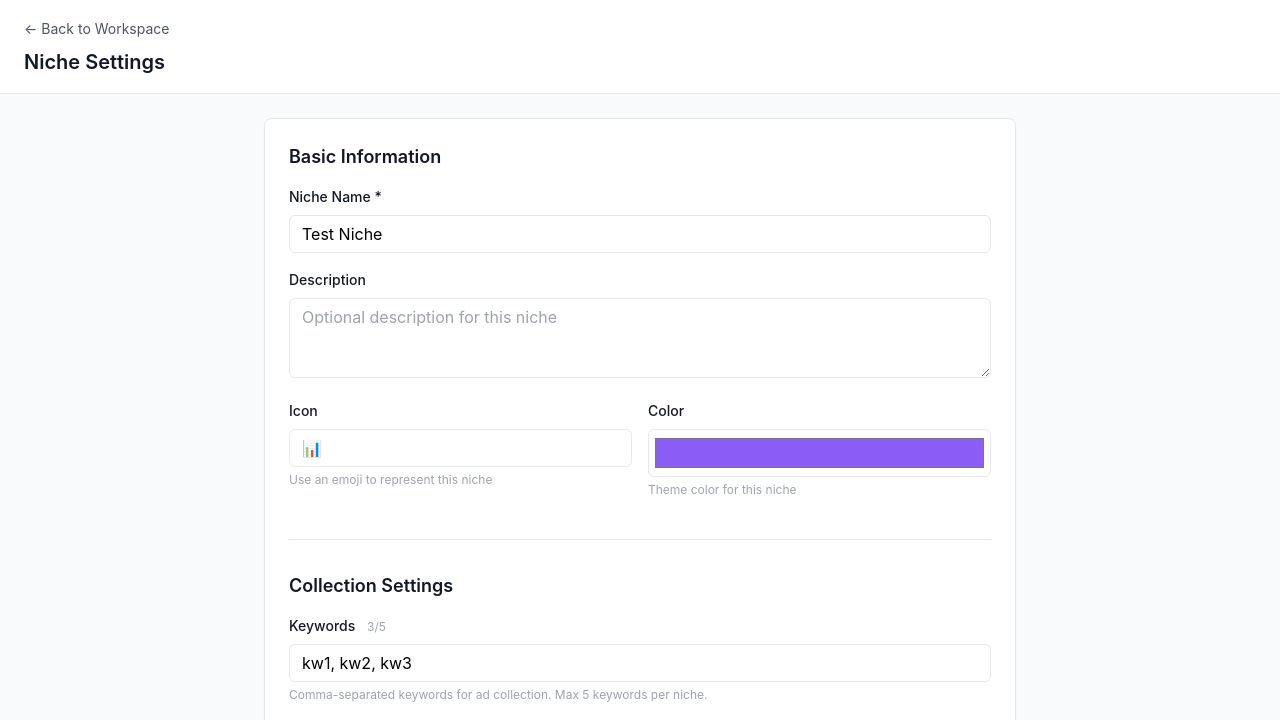
NicheSettingsView — keyword counter › counter updates reactively as user types
Replace the text in the field with id "keywords" with "kw1, kw2, kw3, kw4, kw5": [640, 663] box [289, 644, 991, 682]
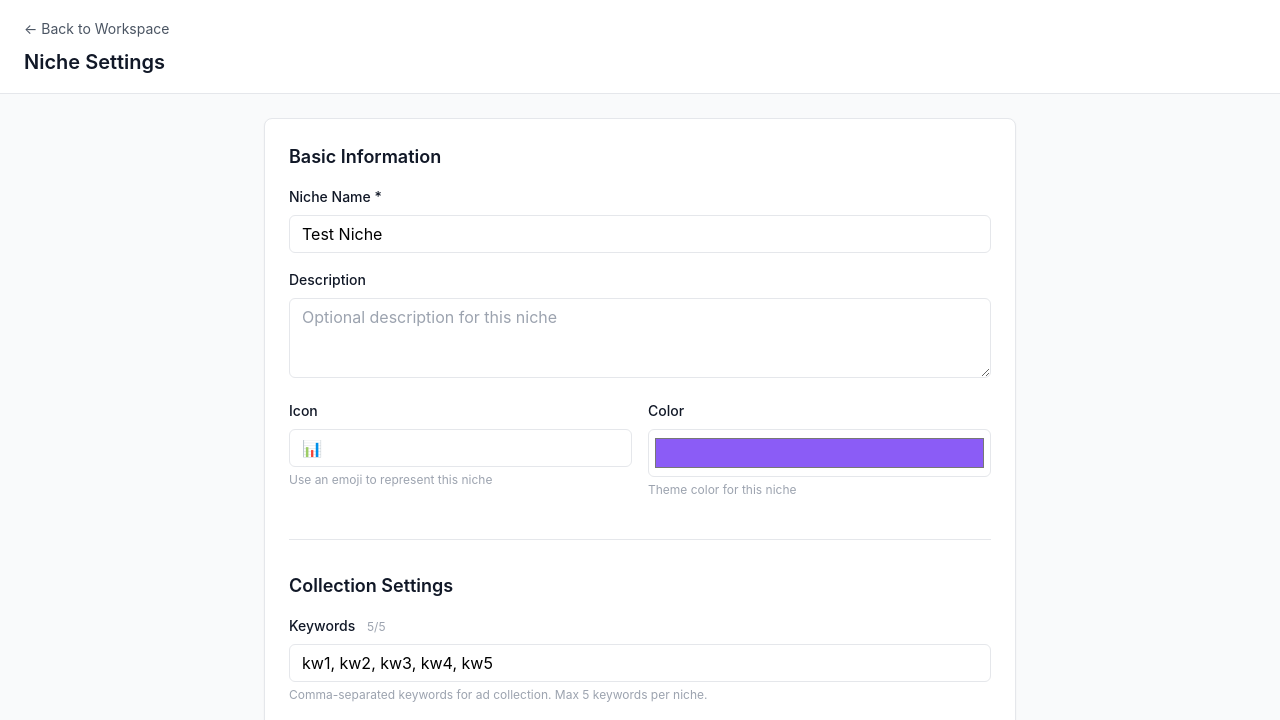
Check: the text with class "keyword-count" reads "5/5", box [367, 619, 386, 634]
